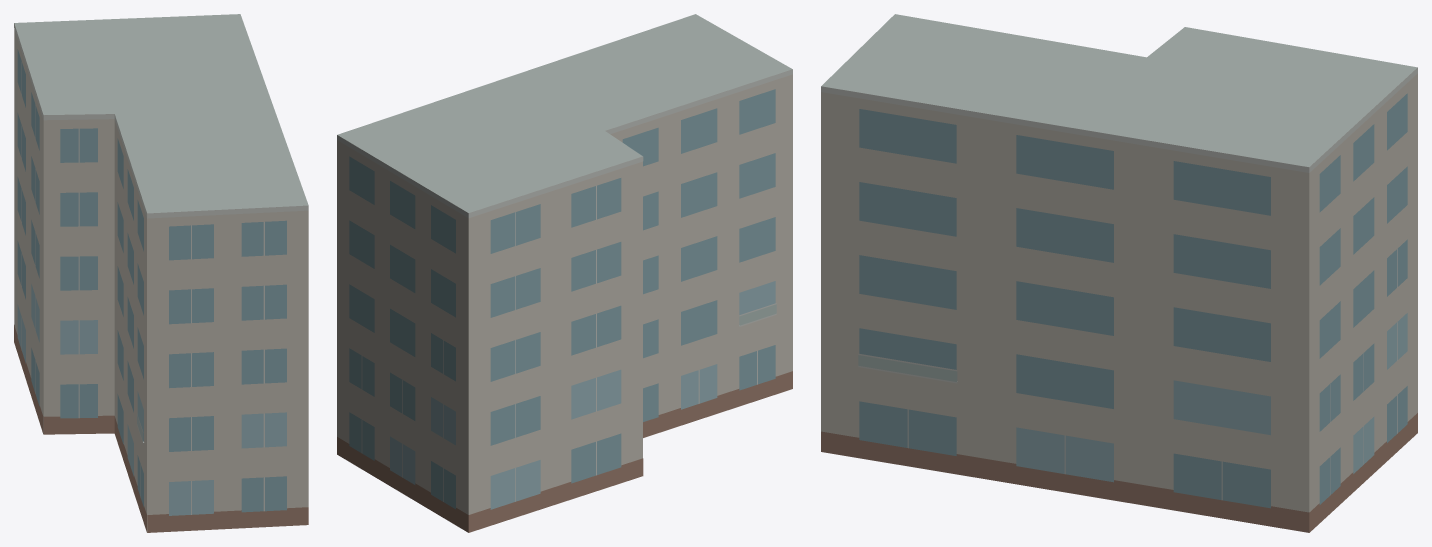
Rendered from survey-upis-32875259.glb.
3 views of the same model, side by side, from view 1: azimuth 30°, elevation 25°; view 2: azimuth 150°, elevation 25°; view 3: azimuth 270°, elevation 25° (orthographic). The views are drawn at different scales.
Parts seen in each view (by area): view 1: survey-upis-32875259.tmp; view 2: survey-upis-32875259.tmp; view 3: survey-upis-32875259.tmp.
Boxes of the visible parts, x1,y1,x2,y2 form: survey-upis-32875259.tmp: (14,14,308,532); survey-upis-32875259.tmp: (337,14,792,532); survey-upis-32875259.tmp: (821,14,1417,532).
Size of the model in its own units: 13.81 by 15.35 by 22.71.
